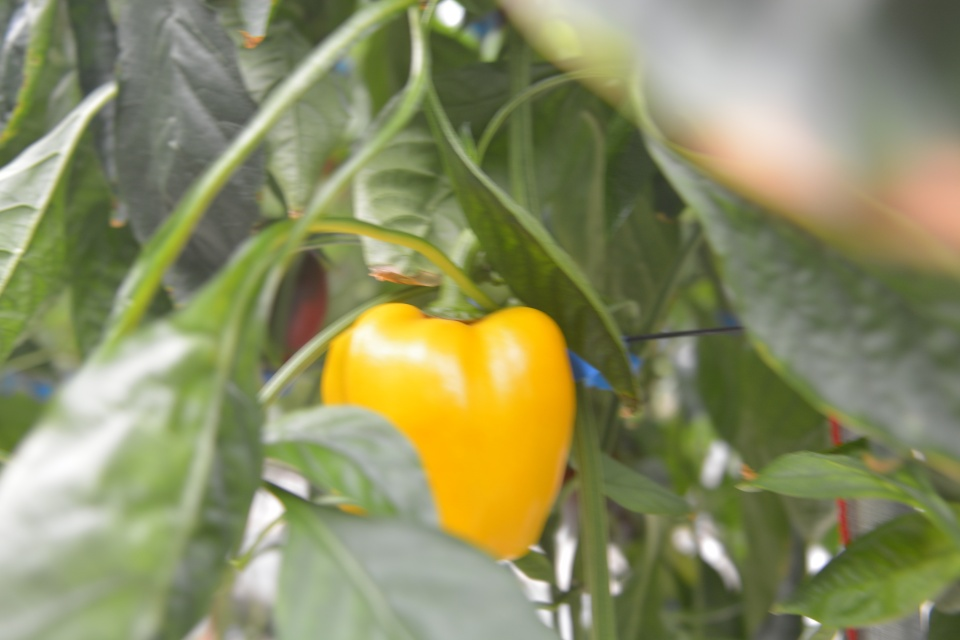fruit: (318, 298, 577, 565)
